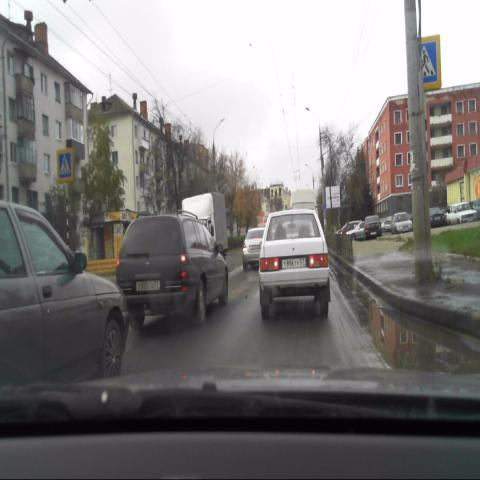5_19_1: (56, 148, 73, 184)
